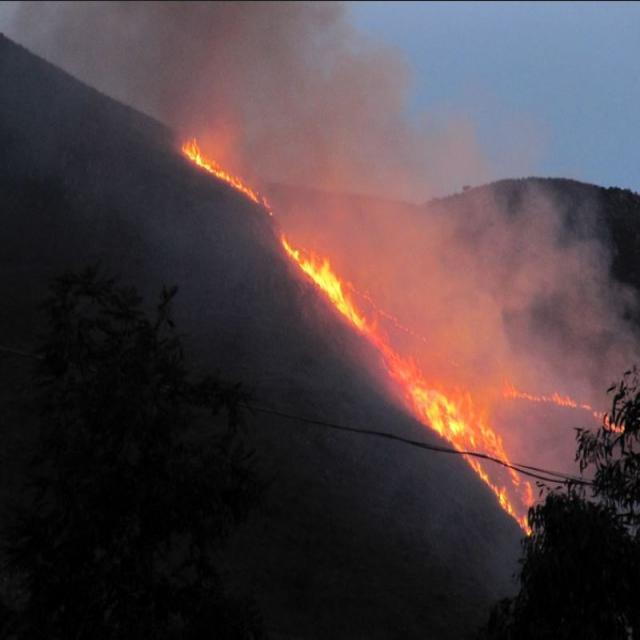Fire: (276, 243, 616, 524), (504, 384, 625, 434), (178, 144, 266, 208)
